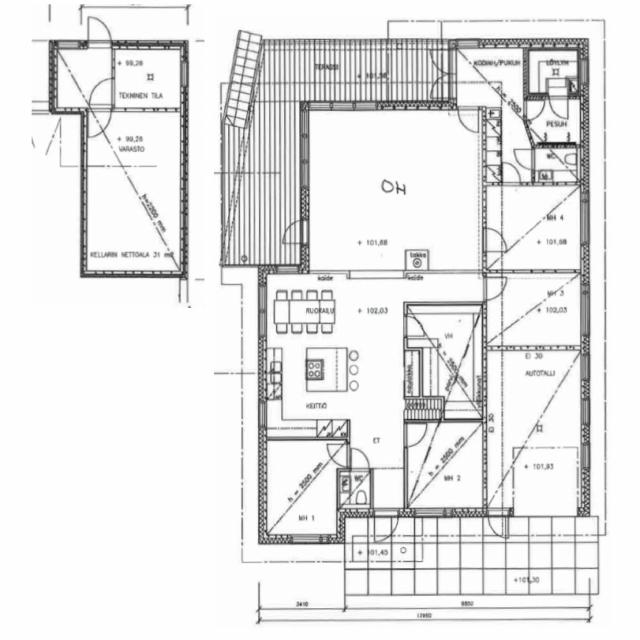door: (374, 508, 398, 544), (88, 14, 111, 49), (487, 508, 509, 541), (427, 73, 456, 98), (427, 49, 456, 73), (88, 108, 111, 137), (90, 79, 115, 104), (281, 221, 309, 243), (482, 228, 507, 252), (482, 277, 506, 300), (404, 424, 427, 448), (458, 107, 478, 132), (549, 94, 568, 120), (328, 445, 350, 467), (523, 100, 544, 120), (351, 448, 369, 471), (404, 316, 424, 336), (514, 150, 535, 169), (503, 163, 520, 185)
